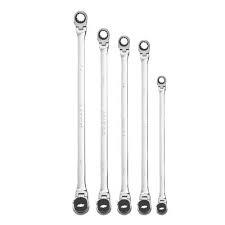wrench: (70, 9, 90, 215), (94, 26, 111, 215), (115, 34, 132, 215), (135, 38, 152, 215), (154, 74, 168, 215)
